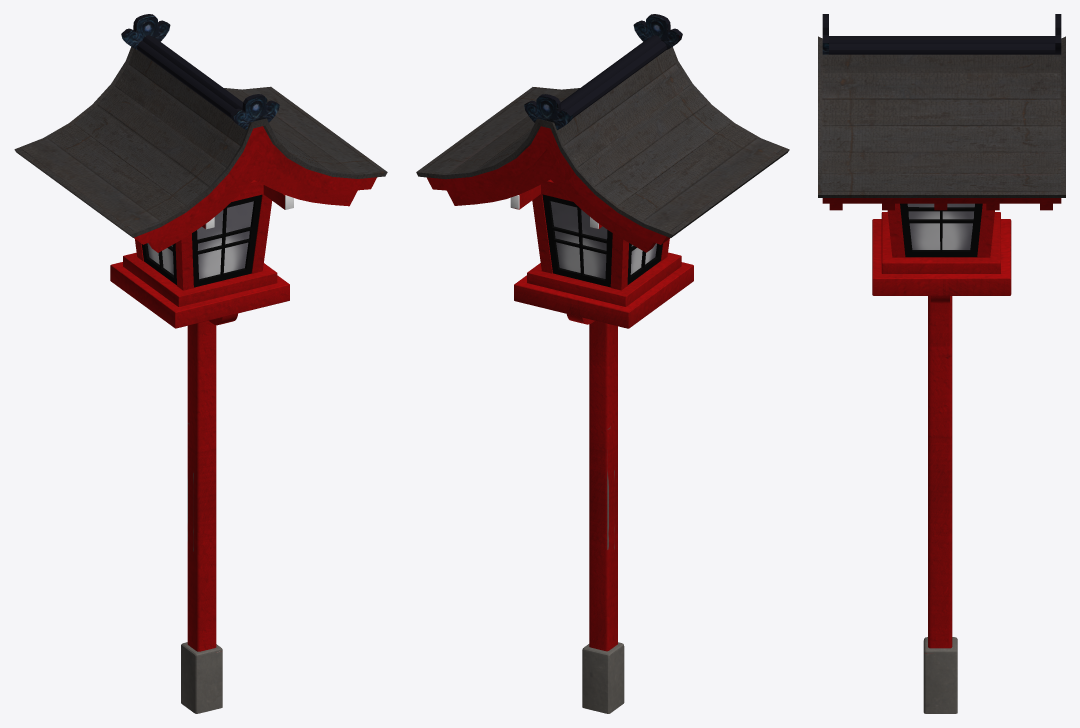
The model's file is woodenLamp.FBX.
3 renders of one model, left to right at view 1: azimuth 30°, elevation 25°; view 2: azimuth 150°, elevation 25°; view 3: azimuth 270°, elevation 25°, orthographic. The views are drawn at different scales.
Parts seen in each view (by area): view 1: woodenLamp; view 2: woodenLamp; view 3: woodenLamp.
Boxes of the visible parts, x1,y1,x2,y2 form: woodenLamp: (14, 14, 387, 713); woodenLamp: (416, 14, 789, 713); woodenLamp: (818, 14, 1065, 713).
Size of the model in its own units: 34.9 by 27.45 by 84.29.
